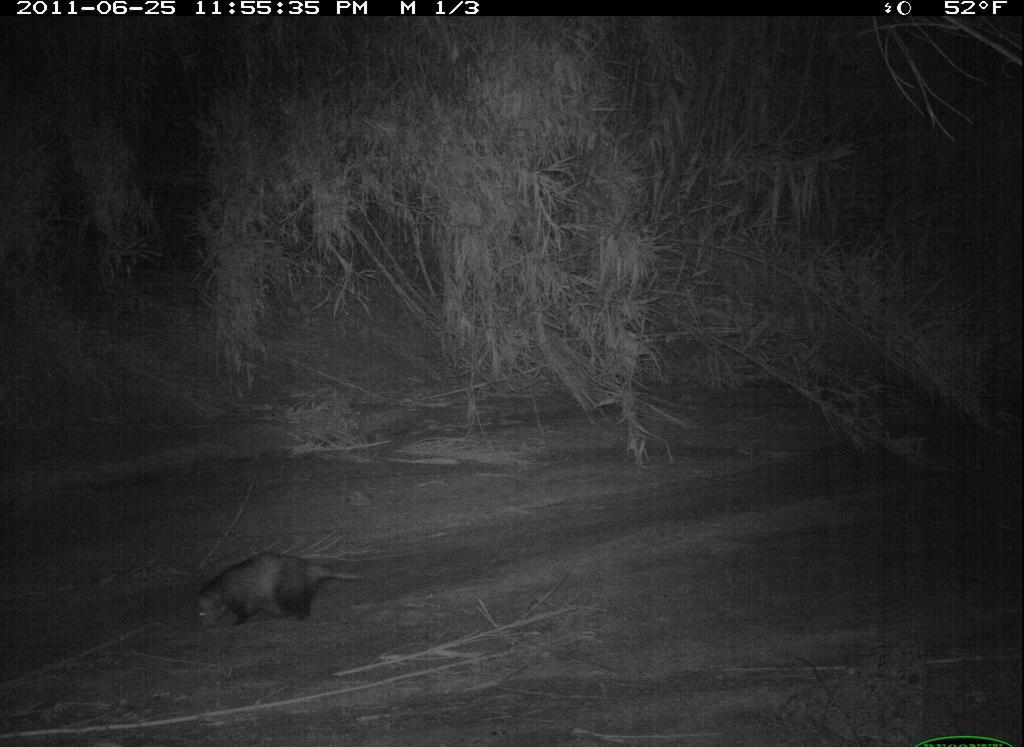opossum: (189, 547, 367, 638)
